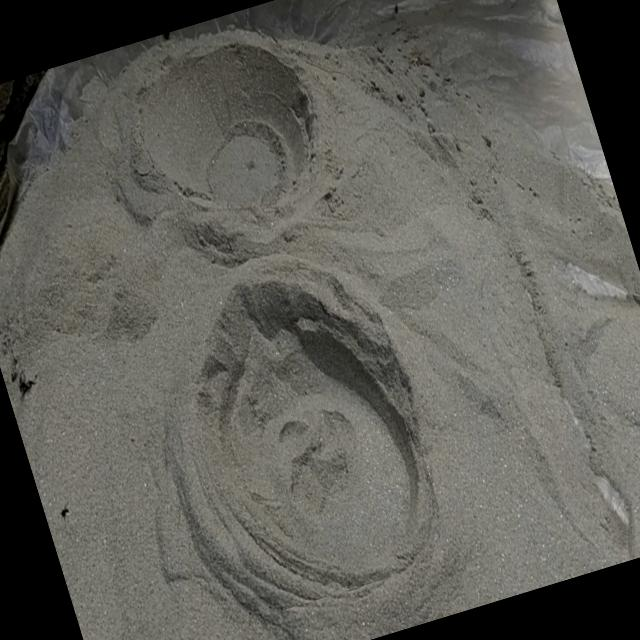C20: (189, 297, 429, 597), (132, 27, 311, 210)
